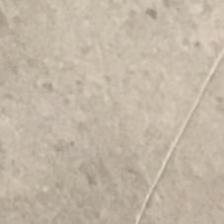Non_Crack: (18, 13, 224, 223)
